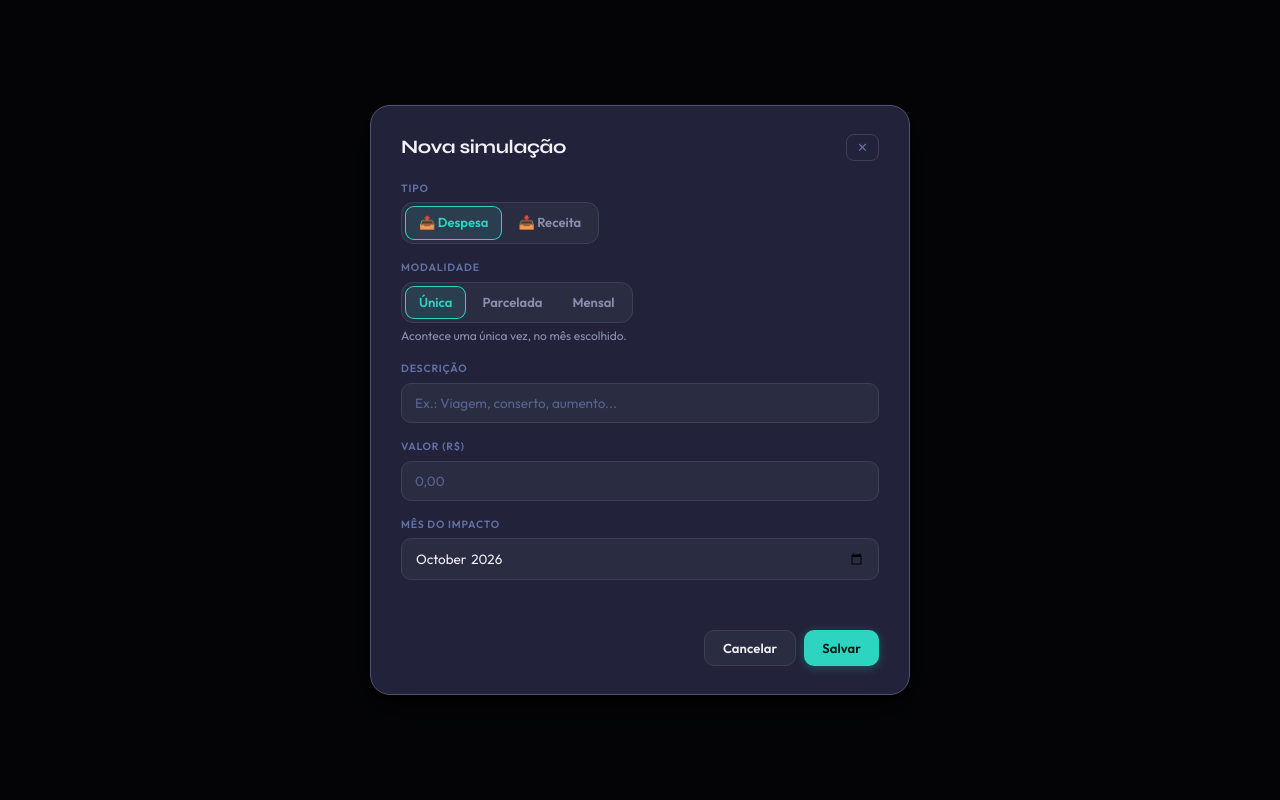
Test case: SimulationForm: campos e rótulos › oferece as três modalidades e mostra só os campos de cada uma
Expected: the button "Única" is shown, [405,286,466,319]
Expected: the button "Mensal" is shown, [558,286,628,319]
Click the button "Parcelada".
click(512, 302)  # box [468,286,556,319]
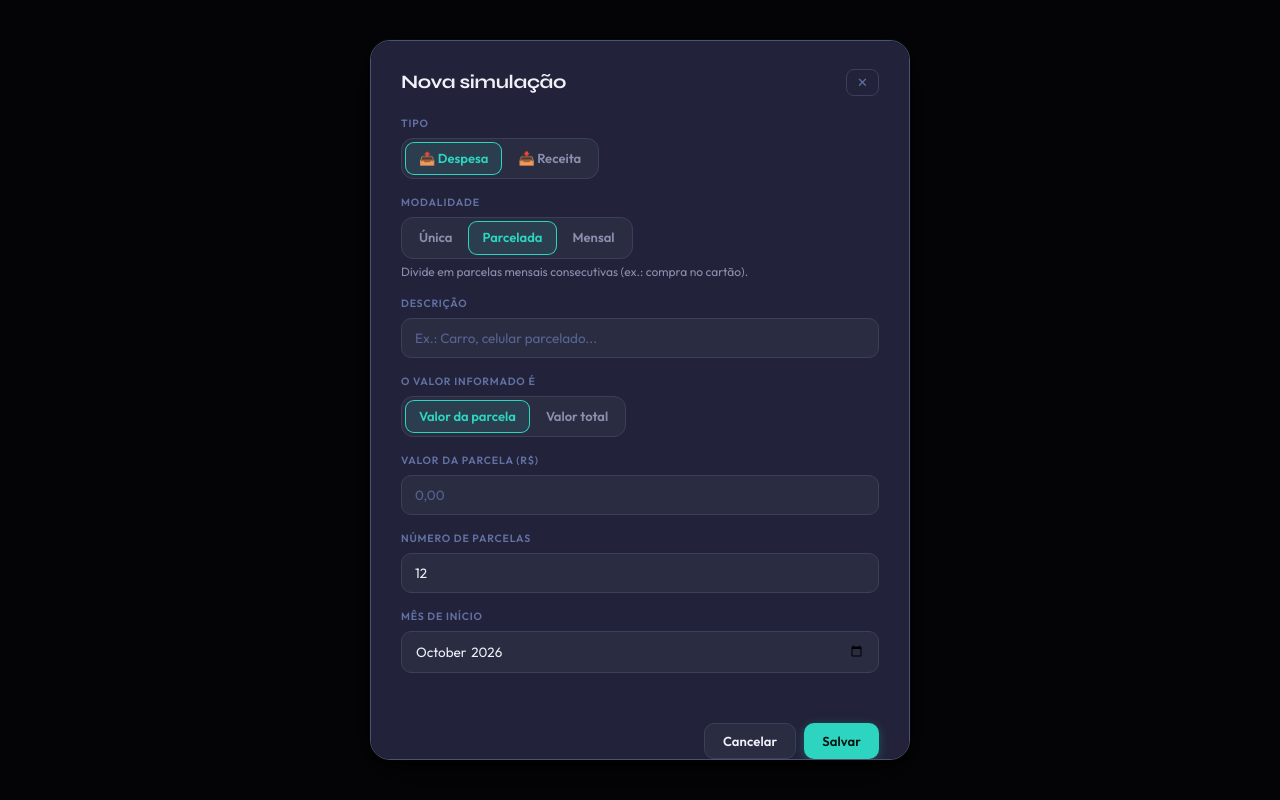
Now the number field labelled "Número de parcelas" is shown, box [401,553,879,593]
Now the button "Valor da parcela" is shown, box [405,400,530,433]
Now the button "Valor total" is shown, box [532,400,622,433]
Click the button "Mensal".
click(594, 238)  # box [558,221,628,254]
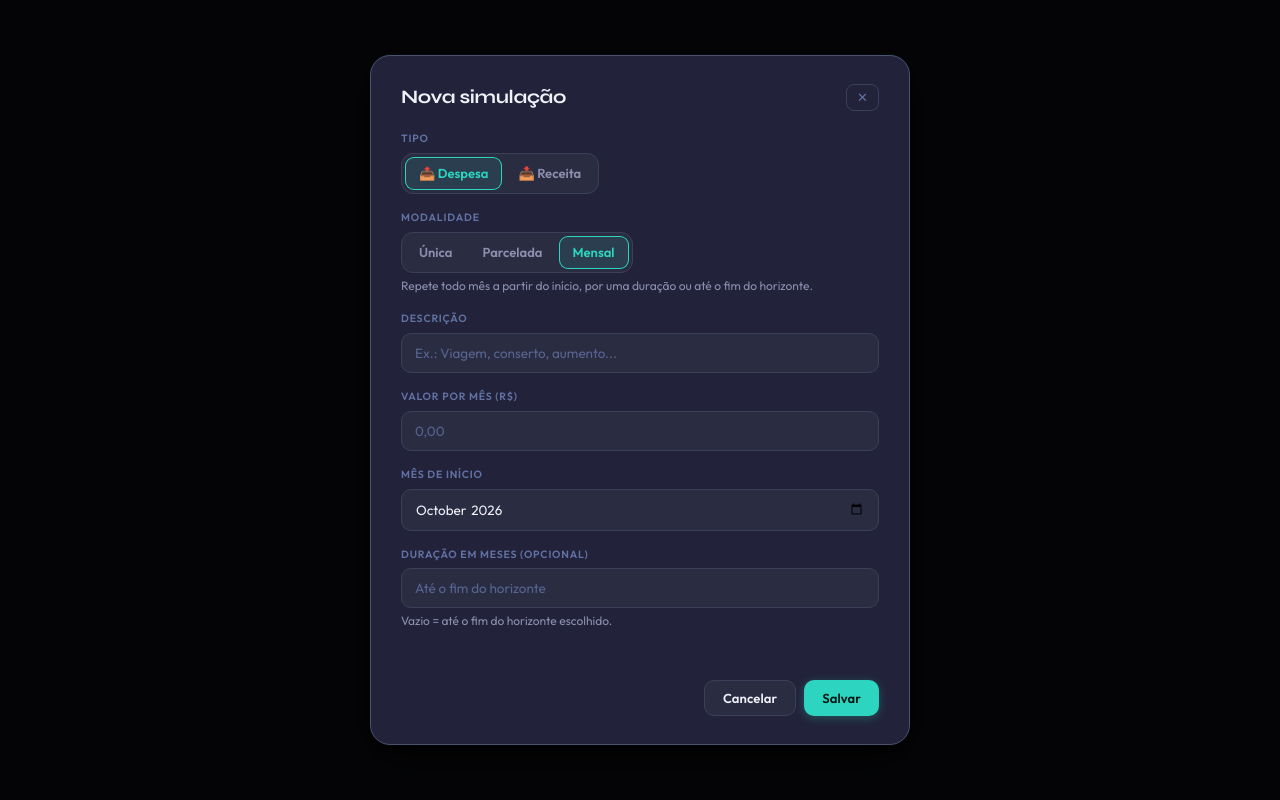
Now the number field labelled "Duração em meses (opcional)" is shown, box [401,568,879,608]
Now the label labelled "Número de parcelas" is gone
Now the button "Valor total" is gone
